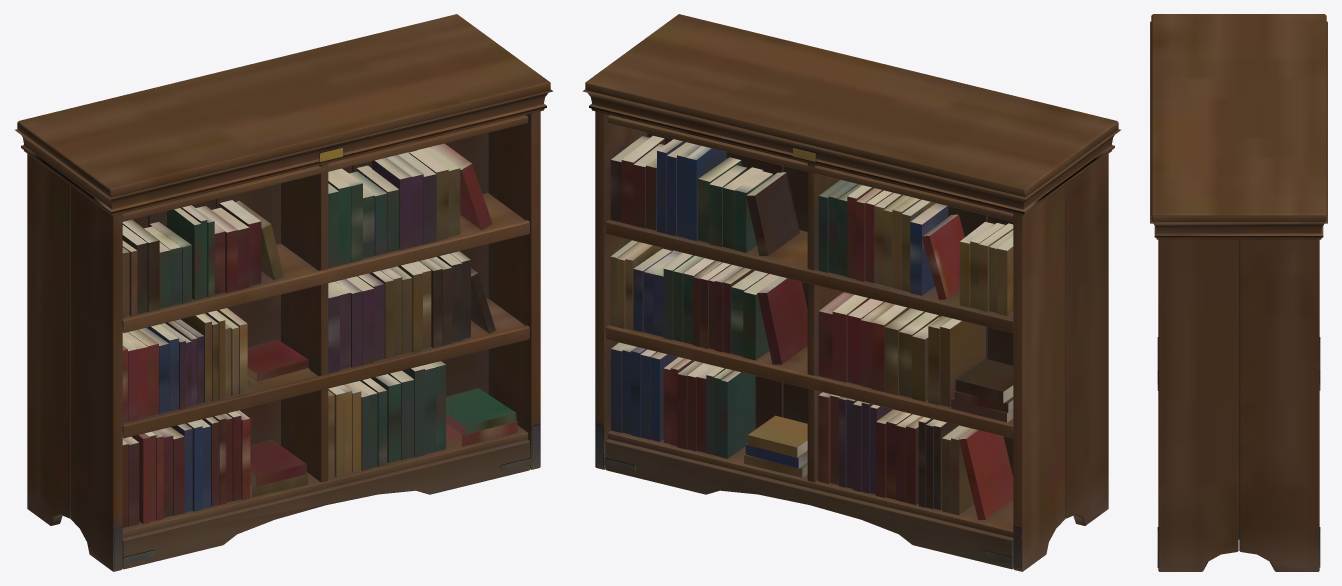
Rendered from bookcase-long.low.glb.
3 renders of one model, left to right at view 1: azimuth 30°, elevation 25°; view 2: azimuth 150°, elevation 25°; view 3: azimuth 270°, elevation 25°, orthographic. The views are drawn at different scales.
Parts seen in each view (by area): view 1: bookcase-long; view 2: bookcase-long; view 3: bookcase-long.
Part boxes in pixels (bbox=[...]): bookcase-long: bbox=[15, 14, 553, 571]; bookcase-long: bbox=[582, 14, 1120, 571]; bookcase-long: bbox=[1150, 14, 1327, 571].
Size of the model in its own units: 1.72 by 1.44 by 0.64.
Materials: 1 (1 with a texture image).
